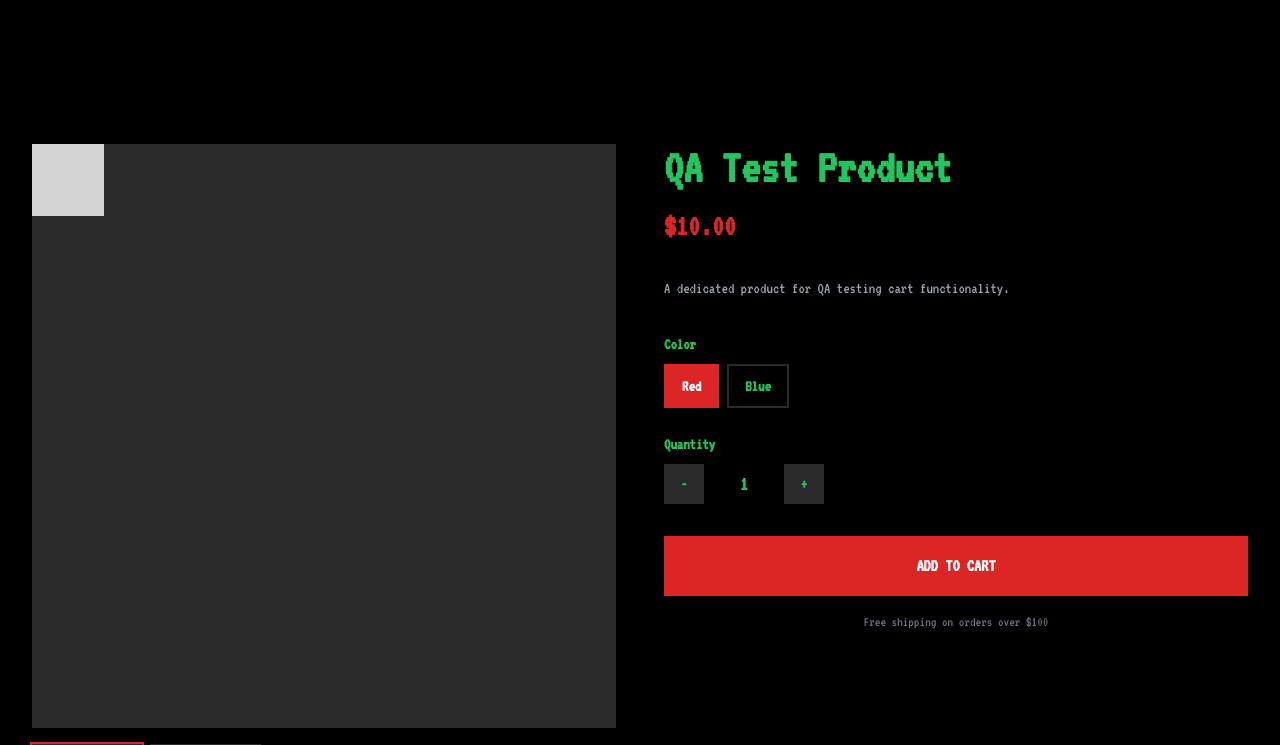
Scenario: ProductClient › adds to cart
Click the button "ADD TO CART" at [956, 566], box [664, 536, 1248, 596]
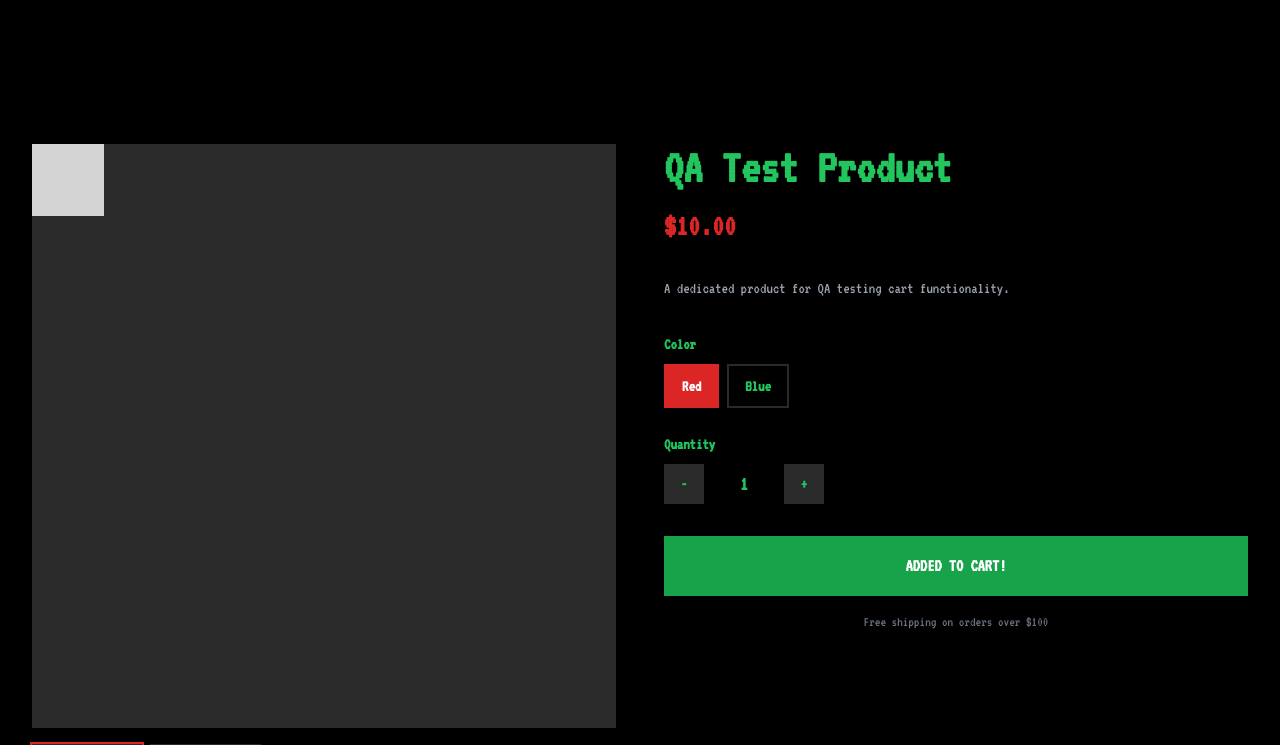
expect the button "ADDED TO CART!" is shown: met, box [664, 536, 1248, 596]
